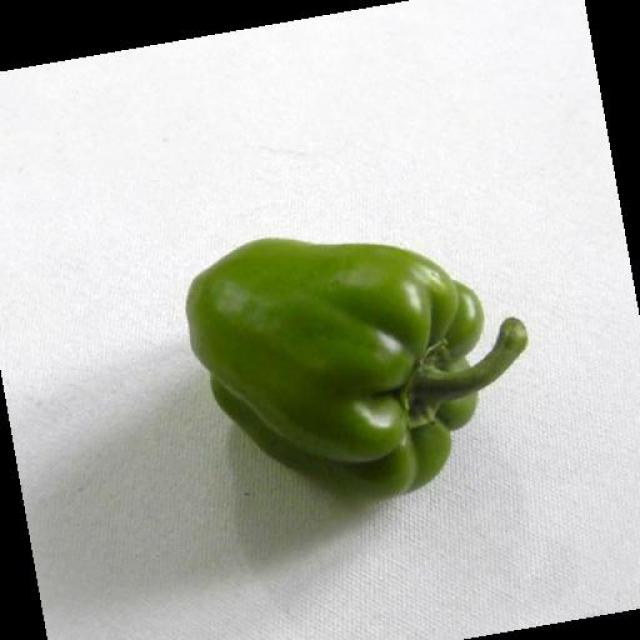Fresh_Capsicum: (162, 228, 532, 477)
